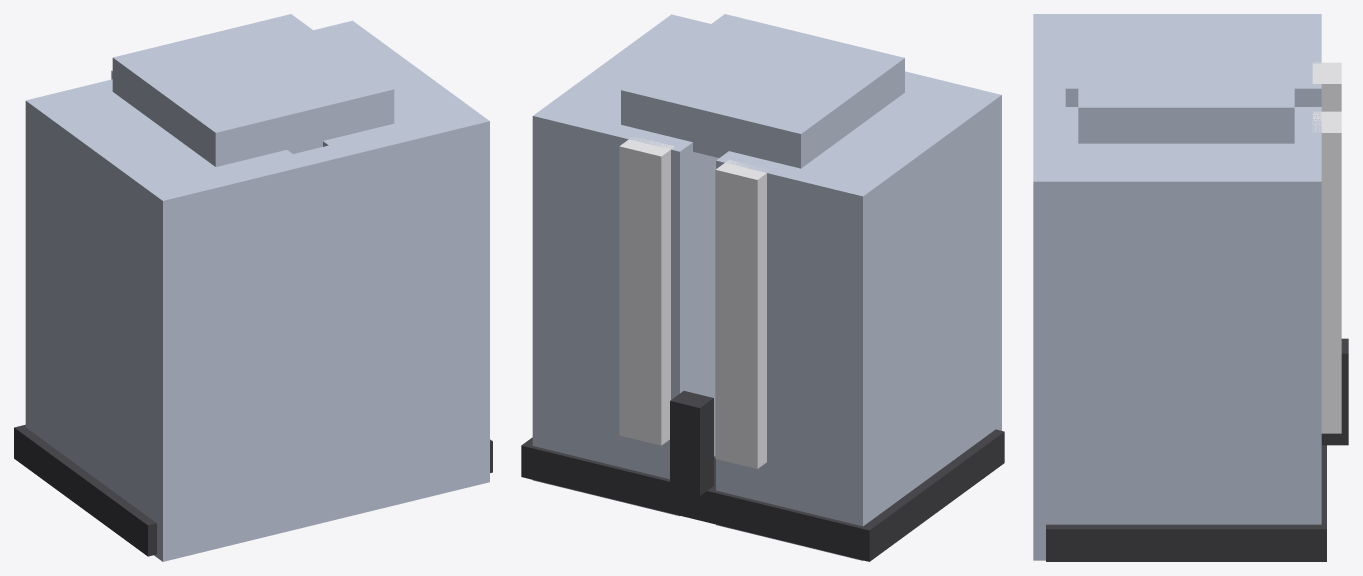
File: hakama_tronco.glb
3 views of the same model, side by side, from view 1: azimuth 30°, elevation 25°; view 2: azimuth 150°, elevation 25°; view 3: azimuth 270°, elevation 25° (orthographic). The views are drawn at different scales.
Parts seen in each view (by area): view 1: hakama_tronco; view 2: hakama_tronco; view 3: hakama_tronco.
Part boxes in pixels (box(x1,y1,x2,y2)): hakama_tronco: box(14, 14, 492, 561); hakama_tronco: box(521, 14, 1004, 561); hakama_tronco: box(1033, 14, 1348, 561).
Size of the model in its own units: 0.58 by 0.635 by 0.4375.
